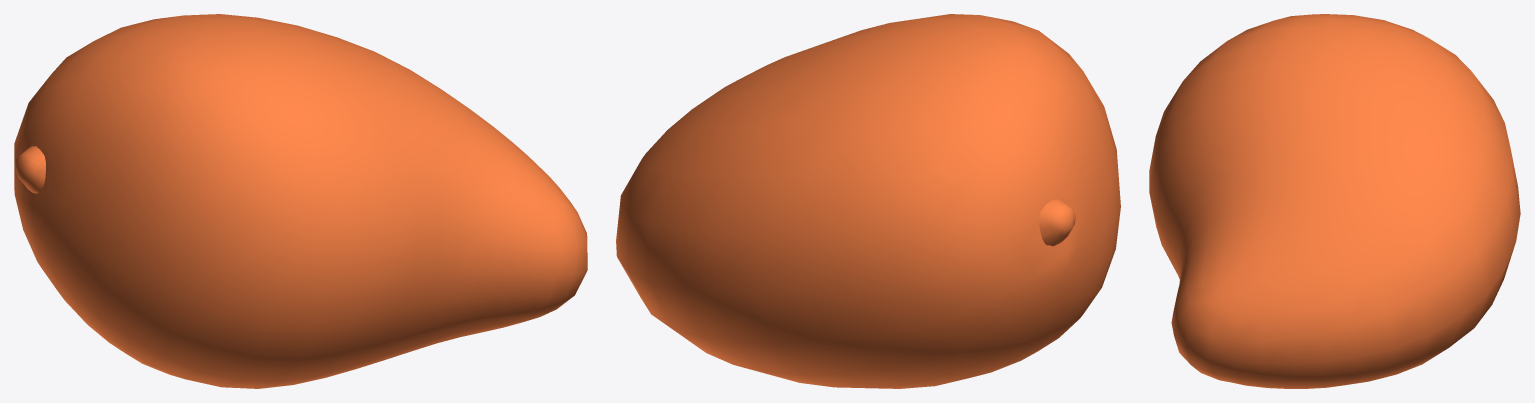
File: mango.dae
3 views of the same model, side by side, from view 1: azimuth 30°, elevation 25°; view 2: azimuth 150°, elevation 25°; view 3: azimuth 270°, elevation 25° (orthographic). The views are drawn at different scales.
Parts seen in each view (by area): view 1: Mango; view 2: Mango; view 3: Mango.
Part boxes in pixels (left/top/right/bottom): Mango: left=14, top=14, right=587, bottom=388; Mango: left=616, top=14, right=1120, bottom=388; Mango: left=1149, top=14, right=1520, bottom=388.
Size of the model in its own units: 0.1438 by 0.118 by 0.0977.
